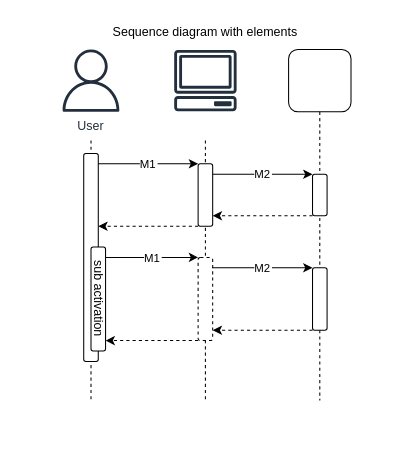
Image size: 410x449. Some labels were removed from this diagram. The shapes that lost their labels are listed below. From the top down, each one's centre as x and y in pixels, then its label:
(x=205, y=80): Client
(x=319, y=80): Servers
